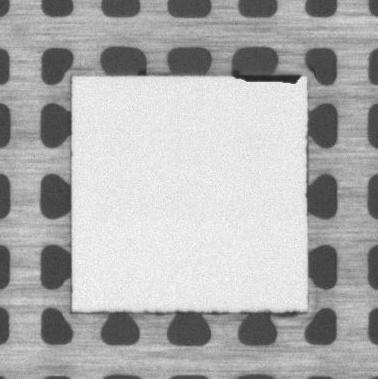DIE_BROKEN: (231, 72, 304, 86)
